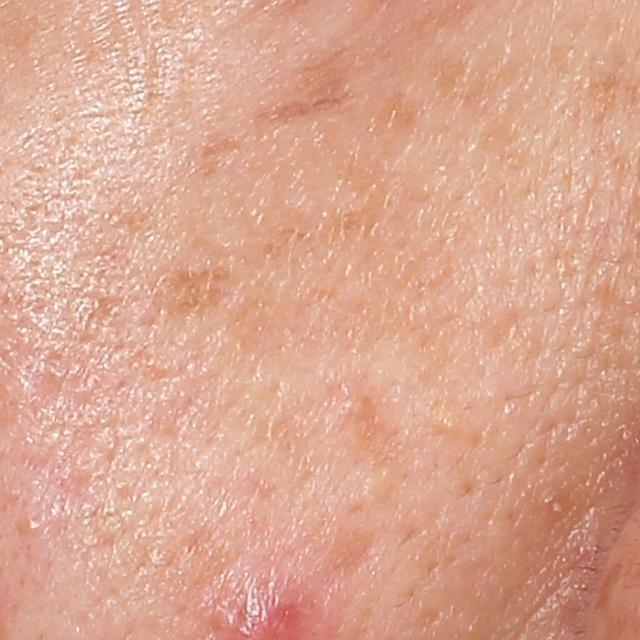comedo: (18, 520, 47, 541)
melasma: (189, 62, 361, 172), (256, 186, 417, 274), (155, 261, 239, 329), (426, 47, 515, 108), (364, 91, 433, 153), (584, 561, 626, 623)
